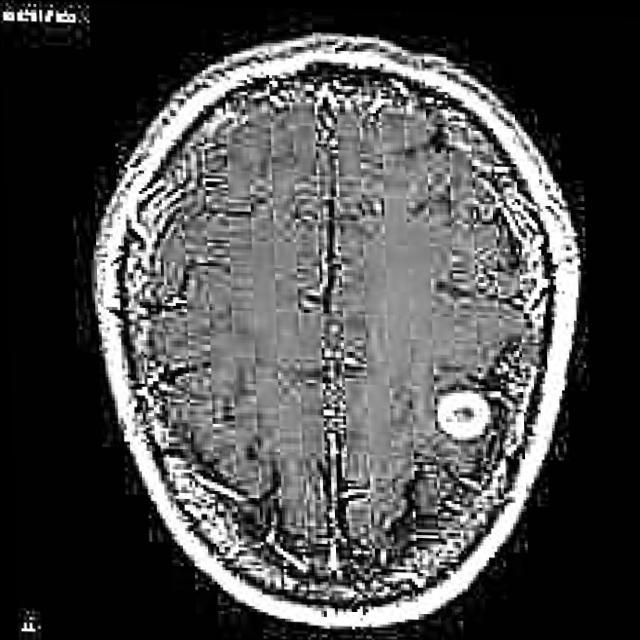Tumor: (432, 384, 498, 454)
